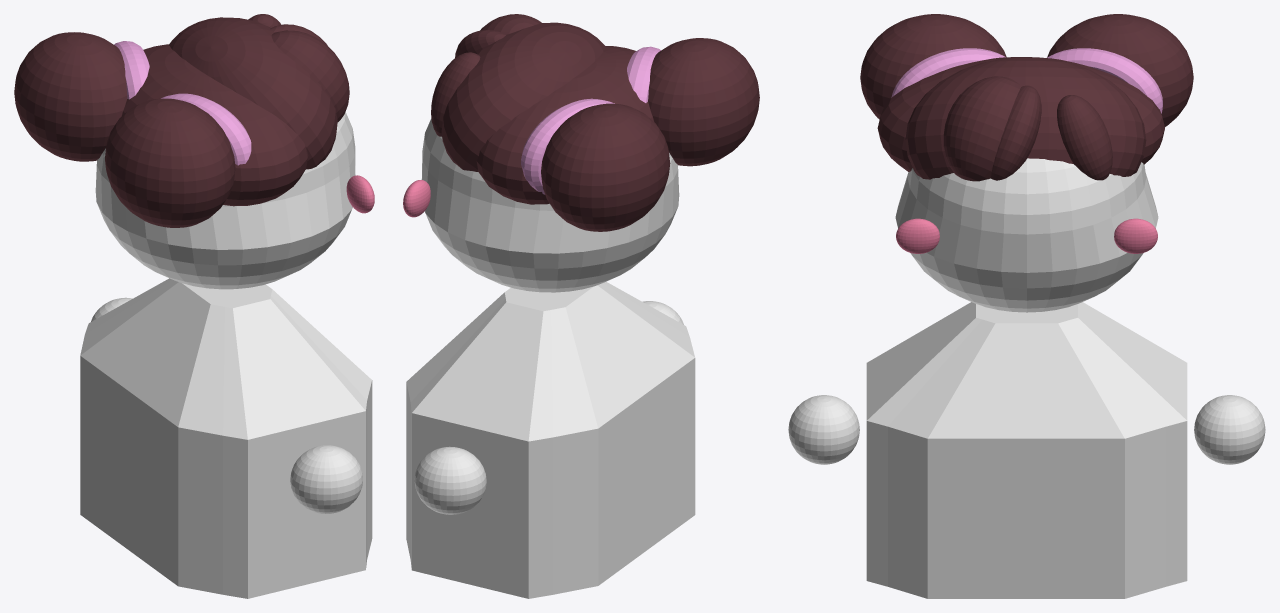
File: Tammy_twin.fbx
The picture shows the model from 3 angles, left to right: view 1: azimuth 30°, elevation 25°; view 2: azimuth 150°, elevation 25°; view 3: azimuth 270°, elevation 25°; orthographic projection.
Visible parts, largest first — view 1: Cube, Sphere.012, Sphere, Sphere.010, Sphere.011, Sphere.001, Sphere.009, Torus.002, Sphere.004; view 2: Cube, Sphere.012, Sphere, Sphere.010, Sphere.011, Sphere.001, Torus.002, Sphere.014, Sphere.004, Sphere.009, Sphere.013; view 3: Cube, Sphere, Sphere.012, Sphere.010, Sphere.001, Sphere.009, Sphere.011, Torus.002, Sphere.014, Sphere.013, Sphere.004.
Part boxes in pixels (left/top/right/bottom): Cube: left=80, top=278, right=372, bottom=598; Sphere.012: left=14, top=32, right=235, bottom=227; Sphere: left=95, top=112, right=355, bottom=289; Sphere.010: left=169, top=17, right=337, bottom=169; Sphere.011: left=122, top=44, right=308, bottom=206; Sphere.001: left=91, top=297, right=362, bottom=513; Sphere.009: left=271, top=30, right=349, bottom=121; Torus.002: left=114, top=41, right=251, bottom=165; Sphere.004: left=346, top=175, right=374, bottom=213; Cube: left=406, top=281, right=695, bottom=598; Sphere.012: left=541, top=38, right=759, bottom=231; Sphere: left=421, top=118, right=679, bottom=292; Sphere.010: left=441, top=22, right=605, bottom=171; Sphere.011: left=476, top=46, right=653, bottom=204; Sphere.001: left=414, top=301, right=683, bottom=514; Torus.002: left=521, top=46, right=660, bottom=194; Sphere.014: left=431, top=52, right=480, bottom=136; Sphere.004: left=403, top=180, right=430, bottom=217; Sphere.009: left=480, top=14, right=541, bottom=34; Sphere.013: left=455, top=30, right=505, bottom=57; Cube: left=866, top=302, right=1187, bottom=598; Sphere: left=895, top=158, right=1158, bottom=312; Sphere.012: left=860, top=14, right=1193, bottom=126; Sphere.010: left=905, top=57, right=1146, bottom=179; Sphere.001: left=788, top=395, right=1265, bottom=464; Sphere.009: left=943, top=76, right=1021, bottom=181; Sphere.011: left=877, top=57, right=1164, bottom=171; Torus.002: left=891, top=48, right=1162, bottom=113; Sphere.014: left=1057, top=95, right=1112, bottom=180; Sphere.013: left=990, top=85, right=1041, bottom=180; Sphere.004: left=896, top=218, right=1157, bottom=253.
Size of the model in its own units: 234 by 408 by 356.
